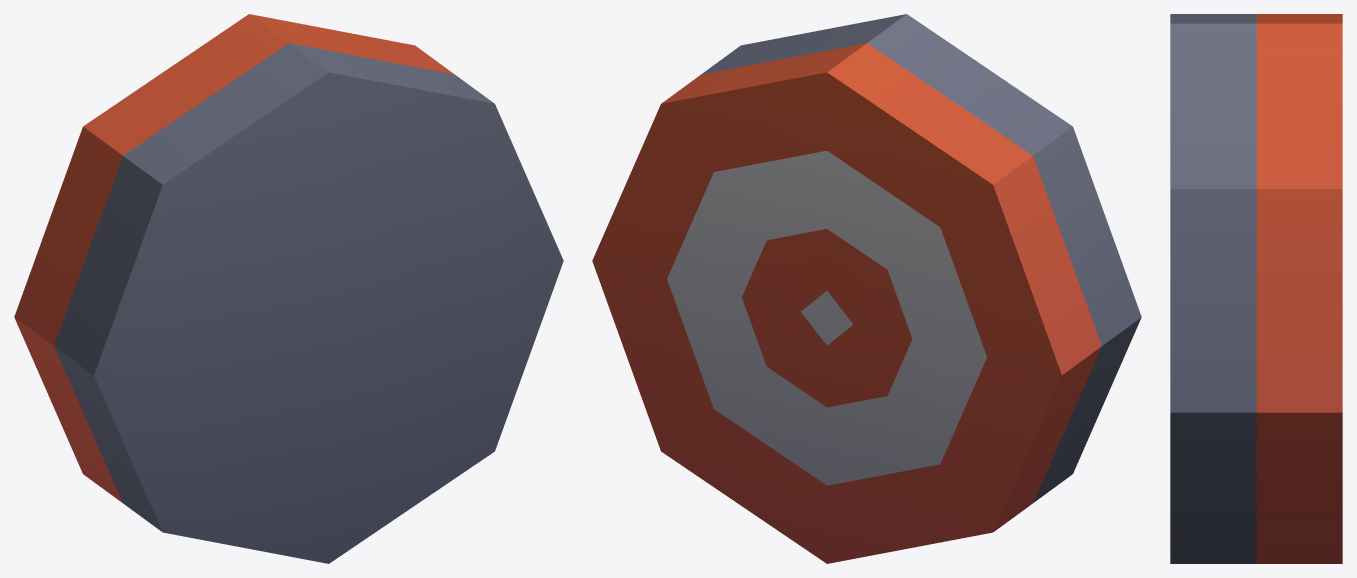
Rendered from target-large.glb.
The picture shows the model from 3 angles, left to right: view 1: azimuth 30°, elevation 25°; view 2: azimuth 150°, elevation 25°; view 3: azimuth 270°, elevation 25°; orthographic projection. The views are drawn at different scales.
Visible parts, largest first — view 1: geometry_0; view 2: geometry_0; view 3: geometry_0.
Boxes of the visible parts, box(x1,y1,x2,y2) form: geometry_0: box(14, 14, 563, 563); geometry_0: box(592, 14, 1141, 563); geometry_0: box(1170, 14, 1342, 563).
Bounding box in the file's own units: 1.08 × 1.08 × 0.3176.
